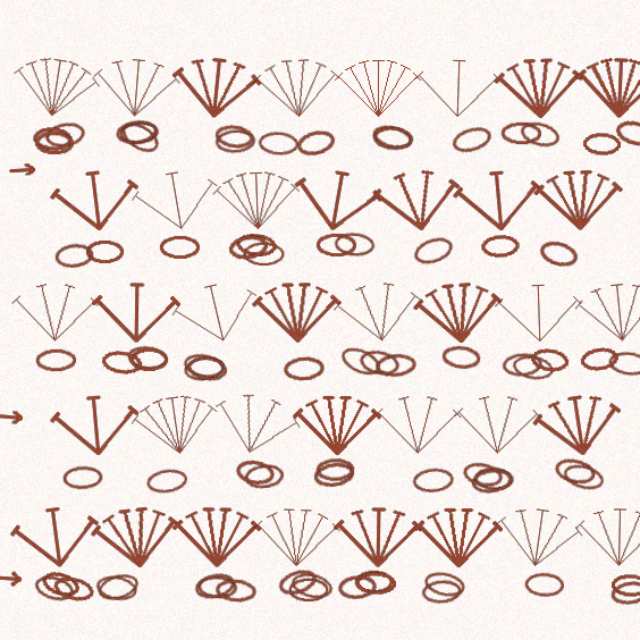chain: (104, 111, 145, 147), (298, 310, 339, 343), (363, 213, 403, 244), (397, 116, 437, 146), (85, 510, 125, 540), (35, 508, 74, 538), (244, 506, 283, 536), (495, 414, 535, 443), (260, 119, 299, 148), (457, 112, 496, 141), (474, 217, 513, 246), (29, 512, 68, 541), (256, 510, 296, 538), (327, 115, 366, 143), (541, 111, 580, 139), (488, 409, 527, 437), (46, 513, 85, 541), (171, 510, 210, 538), (373, 509, 412, 537), (39, 113, 78, 140), (161, 317, 200, 344), (316, 314, 355, 341), (407, 413, 446, 440), (451, 319, 490, 345), (84, 513, 123, 539), (129, 419, 167, 445), (207, 411, 245, 437), (276, 413, 314, 439), (102, 112, 140, 137), (112, 311, 150, 336), (89, 315, 127, 340), (162, 320, 200, 345), (536, 316, 574, 341), (415, 419, 453, 444), (189, 116, 226, 141), (201, 213, 238, 238), (165, 320, 202, 345), (467, 313, 504, 338), (511, 312, 548, 337), (215, 415, 252, 440), (538, 518, 575, 543), (105, 113, 142, 137), (48, 221, 85, 245), (208, 212, 245, 236), (331, 318, 368, 342), (389, 311, 426, 335), (364, 419, 401, 443), (298, 513, 334, 537), (190, 121, 227, 144), (228, 123, 265, 146), (295, 212, 332, 235), (250, 321, 287, 344), (174, 514, 211, 537), (190, 517, 227, 540), (443, 318, 479, 341), (372, 518, 408, 541), (329, 119, 366, 141), (29, 119, 65, 141), (424, 214, 460, 236), (56, 418, 92, 440), (418, 419, 454, 441), (314, 511, 350, 533), (215, 221, 252, 242), (514, 124, 549, 146), (279, 411, 314, 433), (463, 512, 498, 534), (539, 513, 574, 535), (442, 115, 478, 136), (141, 215, 177, 236), (279, 213, 315, 234), (32, 315, 68, 336), (255, 517, 291, 538), (31, 123, 66, 144), (76, 219, 111, 240), (115, 314, 150, 335), (313, 510, 348, 531)
fan: (182, 344, 271, 419), (147, 246, 236, 320), (113, 149, 199, 219), (255, 149, 341, 219), (7, 50, 93, 119), (326, 150, 411, 218), (113, 348, 198, 416), (468, 348, 553, 416), (433, 447, 518, 515), (292, 249, 376, 316), (8, 447, 92, 514), (43, 151, 127, 217), (79, 448, 163, 514), (150, 52, 233, 117), (505, 250, 588, 315), (399, 152, 481, 216), (364, 251, 446, 315), (44, 350, 126, 414), (80, 53, 162, 116), (222, 54, 303, 116), (507, 54, 587, 115), (471, 153, 551, 214), (436, 55, 516, 115), (187, 154, 267, 214), (365, 55, 444, 115), (436, 253, 515, 313), (223, 451, 302, 511), (10, 253, 89, 312), (223, 253, 302, 312), (400, 352, 479, 411), (507, 451, 586, 510), (82, 253, 160, 312), (330, 352, 408, 411), (153, 451, 231, 510), (295, 451, 373, 510), (295, 56, 373, 114), (259, 353, 337, 411), (366, 452, 444, 510)
noise: (602, 179, 622, 199), (0, 509, 22, 525), (0, 369, 23, 382), (8, 152, 34, 163)
